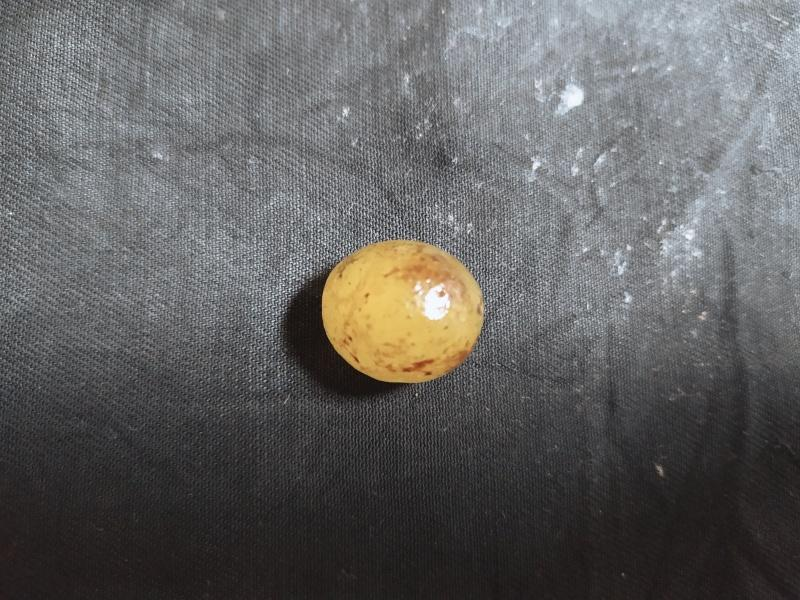Grape Rotten: (319, 237, 487, 386)
